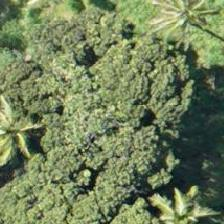coconut_tree: (128, 0, 218, 56), (0, 89, 53, 179), (136, 173, 223, 223)
